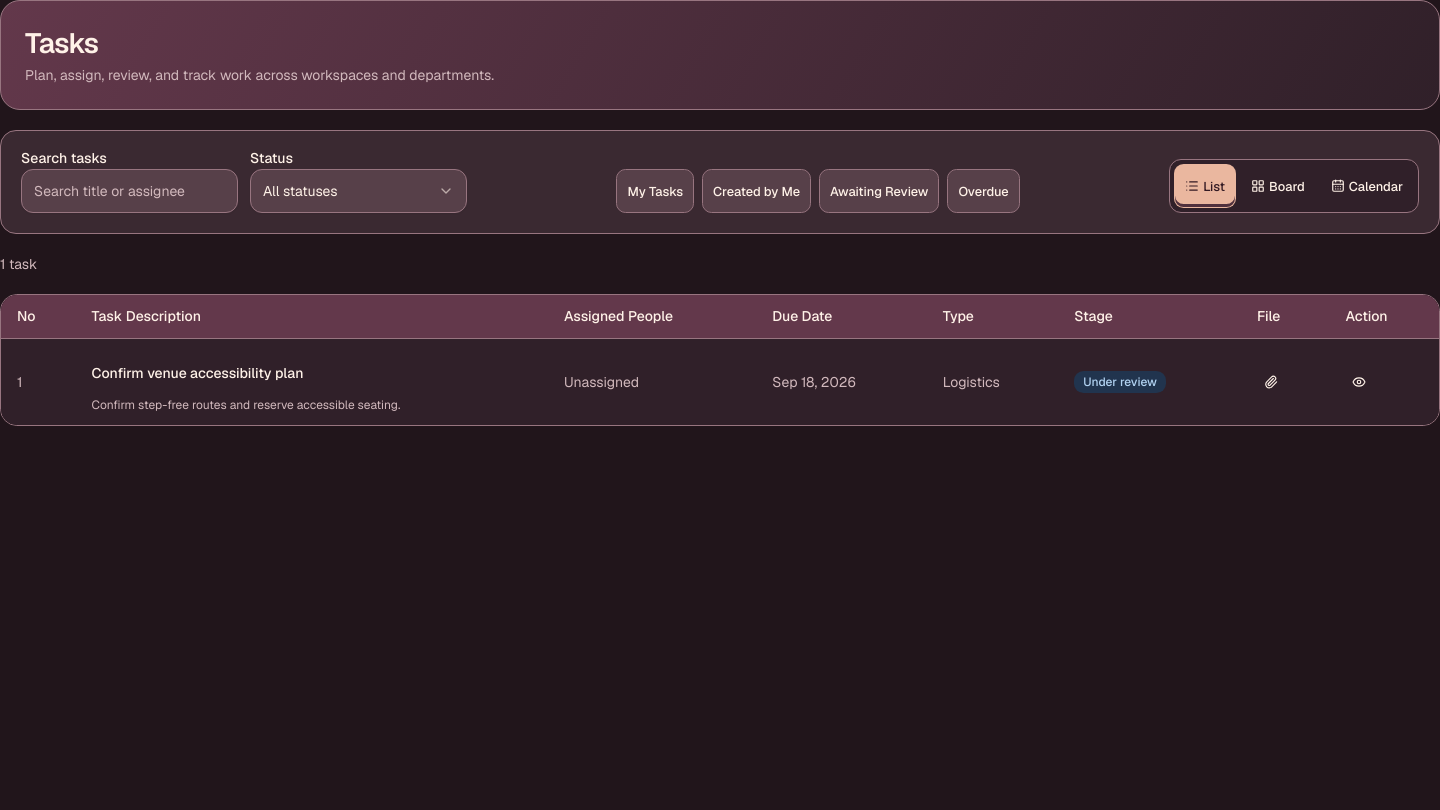
Test: TasksManager › still shows checklist-add and review controls to a Manager on a task they created themselves
Click the button "Confirm venue accessibility plan" at (198, 373), box [92,351,304,395]
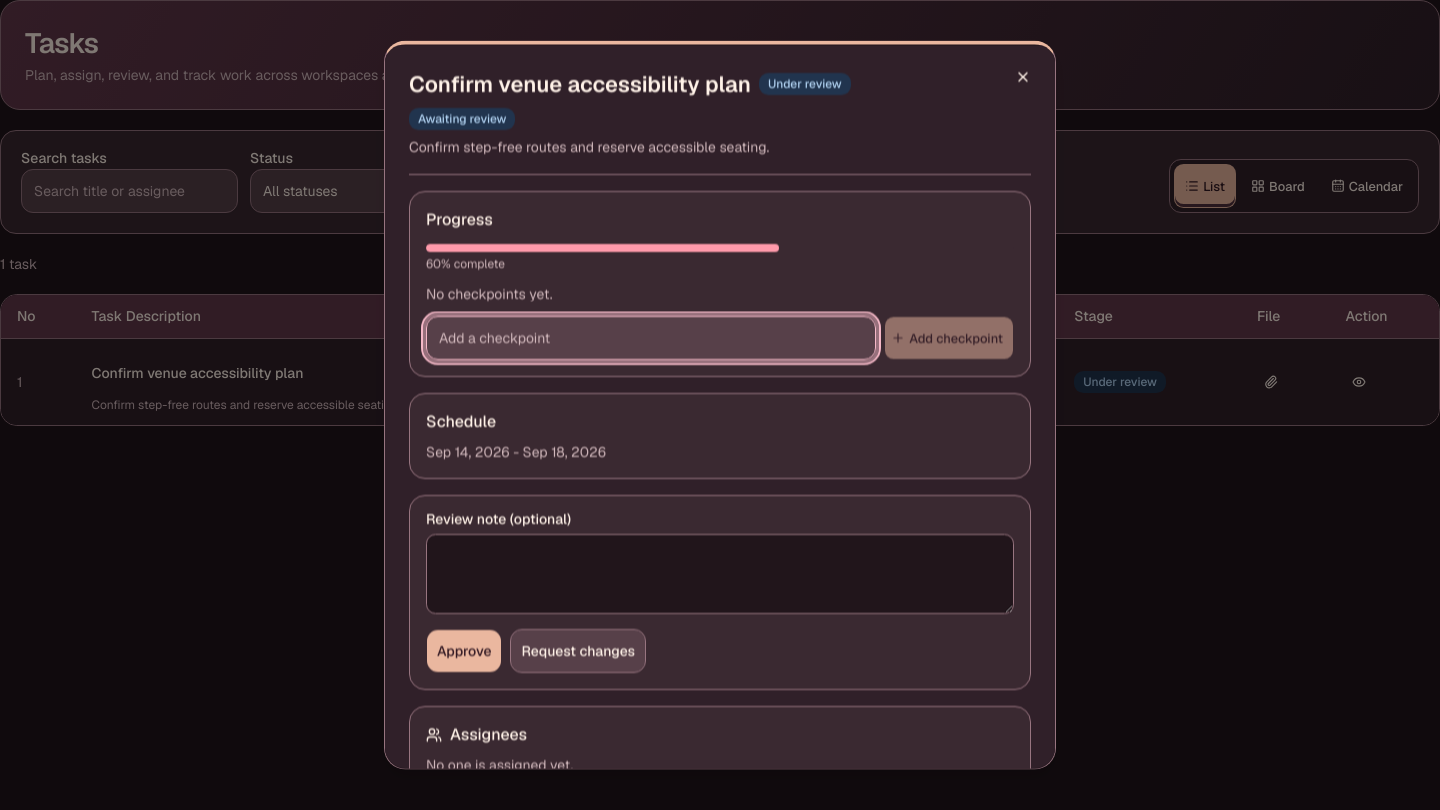
Check: the dialog is shown, box [384,40,1056,770]
Check: the field named "New checkpoint description" is shown, box [426,316,876,360]
Check: the button "Add checkpoint" is shown, box [884,316,1014,360]
